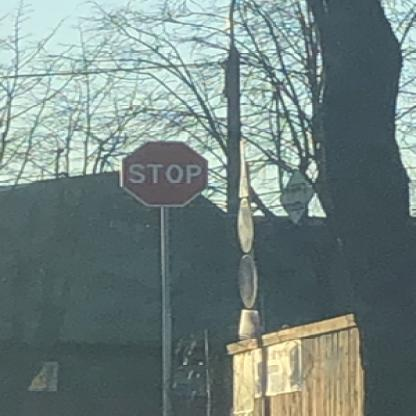Stop: (122, 140, 210, 209)
